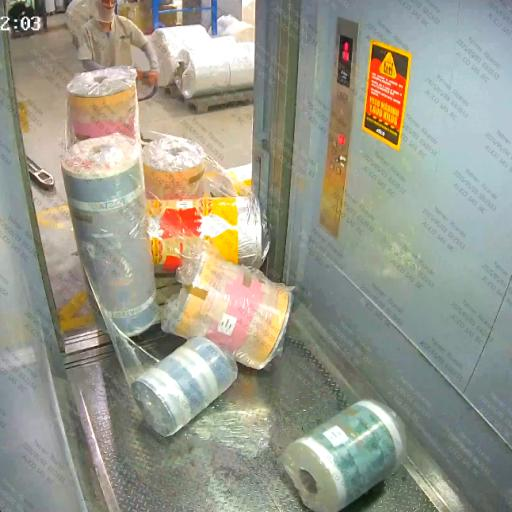rollos caidos: (73, 199, 407, 512)
